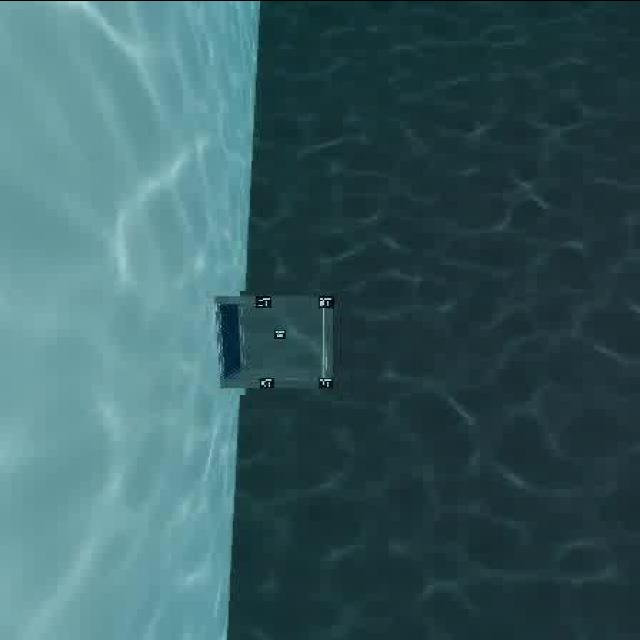Docking Station: (206, 290, 350, 394)
